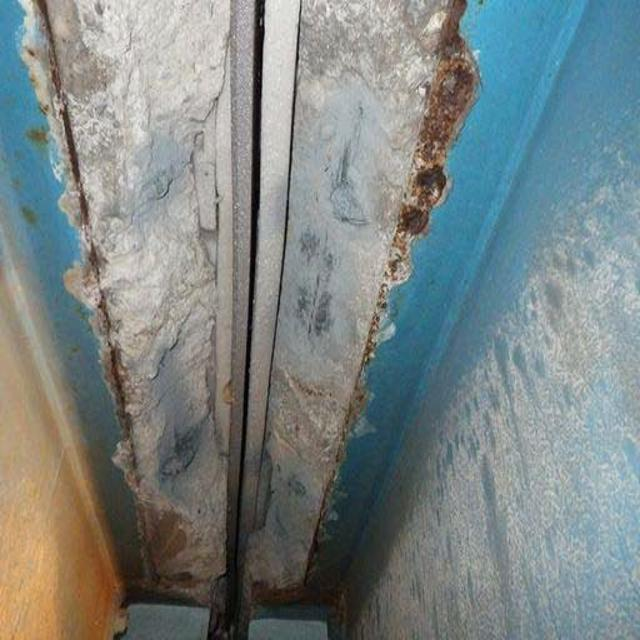corrosion: (381, 107, 496, 282)
spalling: (19, 16, 207, 554), (300, 18, 464, 92)
